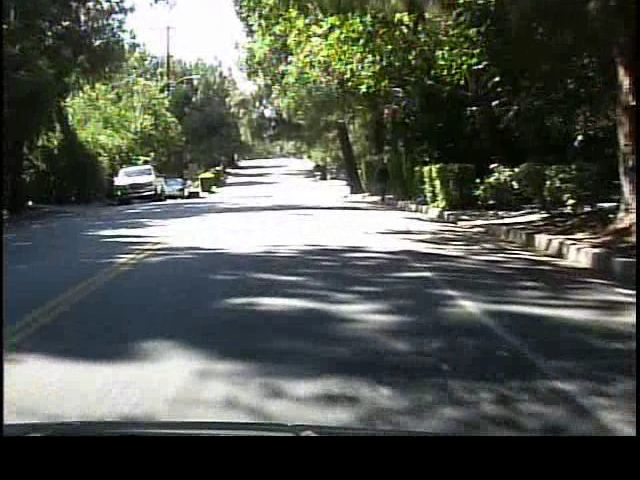person: (375, 155, 394, 208)
